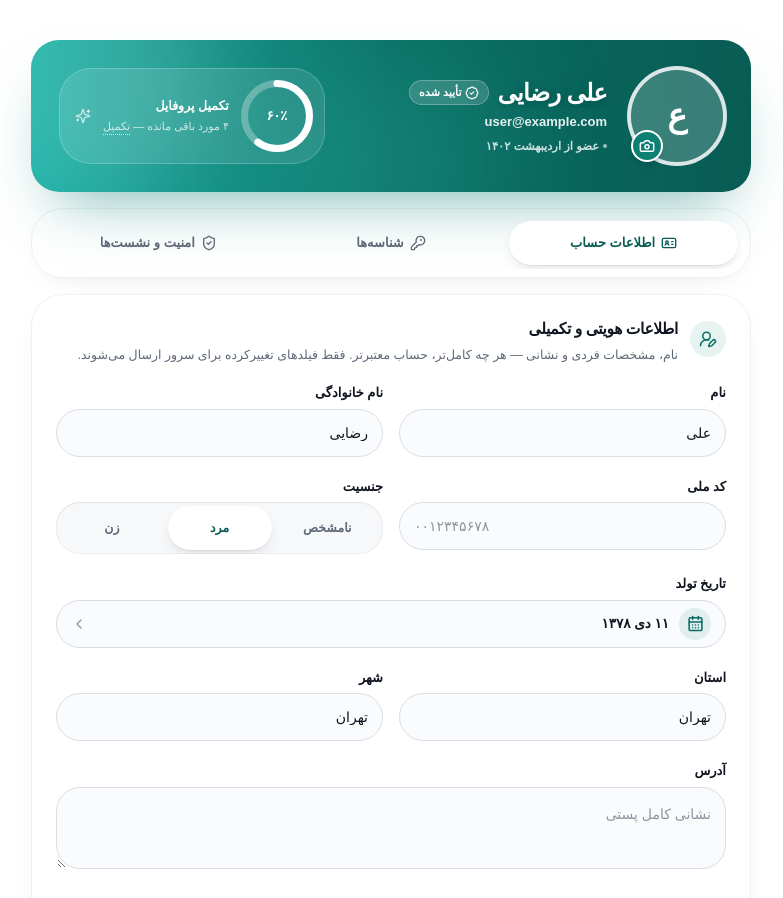
نشست‌ها — تشخیص و رفتارِ نشستِ فعلی › نشستِ جاری: آنلاین + همین دستگاه + هم‌اکنون، بدون دکمه‌ی لغو و با راهنمای خروج
Expected: the heading "علی رضایی" is shown, [498, 77, 607, 108]
Click the tab "امنیت و نشست‌ها": (158, 243) [44, 221, 273, 265]
(page scrolled)
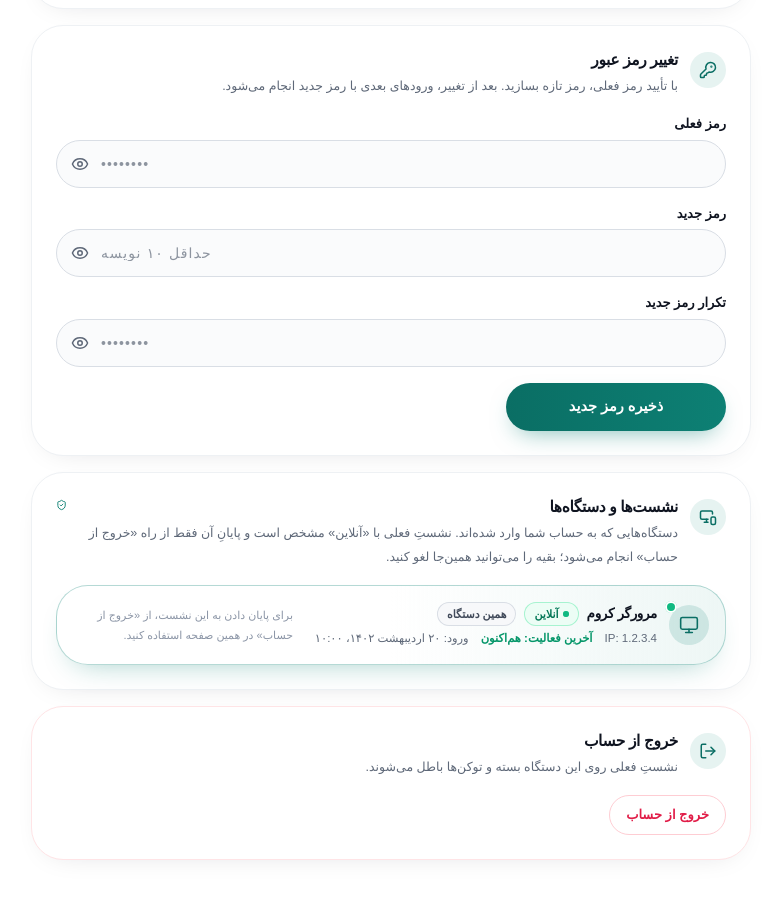
Expected: the text "آنلاین" is shown, [524, 602, 579, 626]
Expected: the text "همین دستگاه" is shown, [437, 602, 516, 626]
Expected: the text "آخرین فعالیت: هم‌اکنون" is shown, [481, 630, 593, 648]
